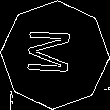M_E: (28, 30, 82, 80)
